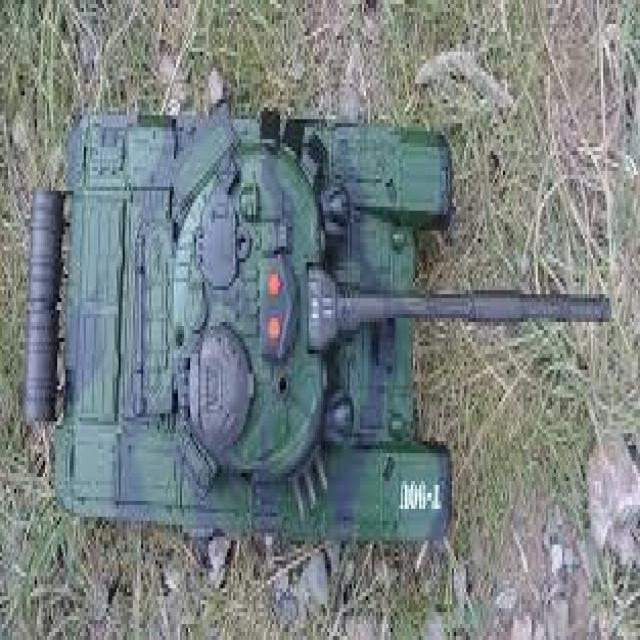MIL_MBT: (13, 52, 627, 580)
